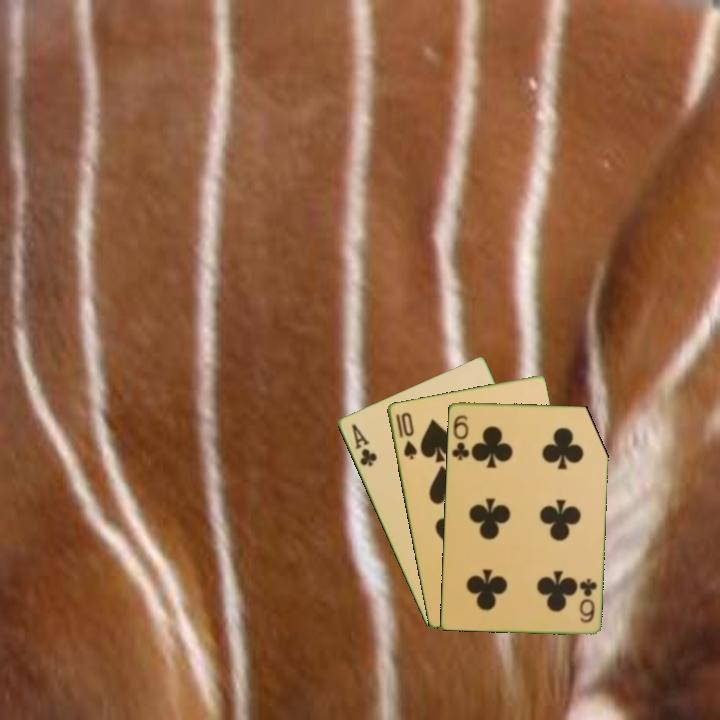10s: (392, 408, 420, 462)
6c: (448, 411, 472, 463), (575, 575, 599, 625)
Ac: (348, 420, 380, 469)
